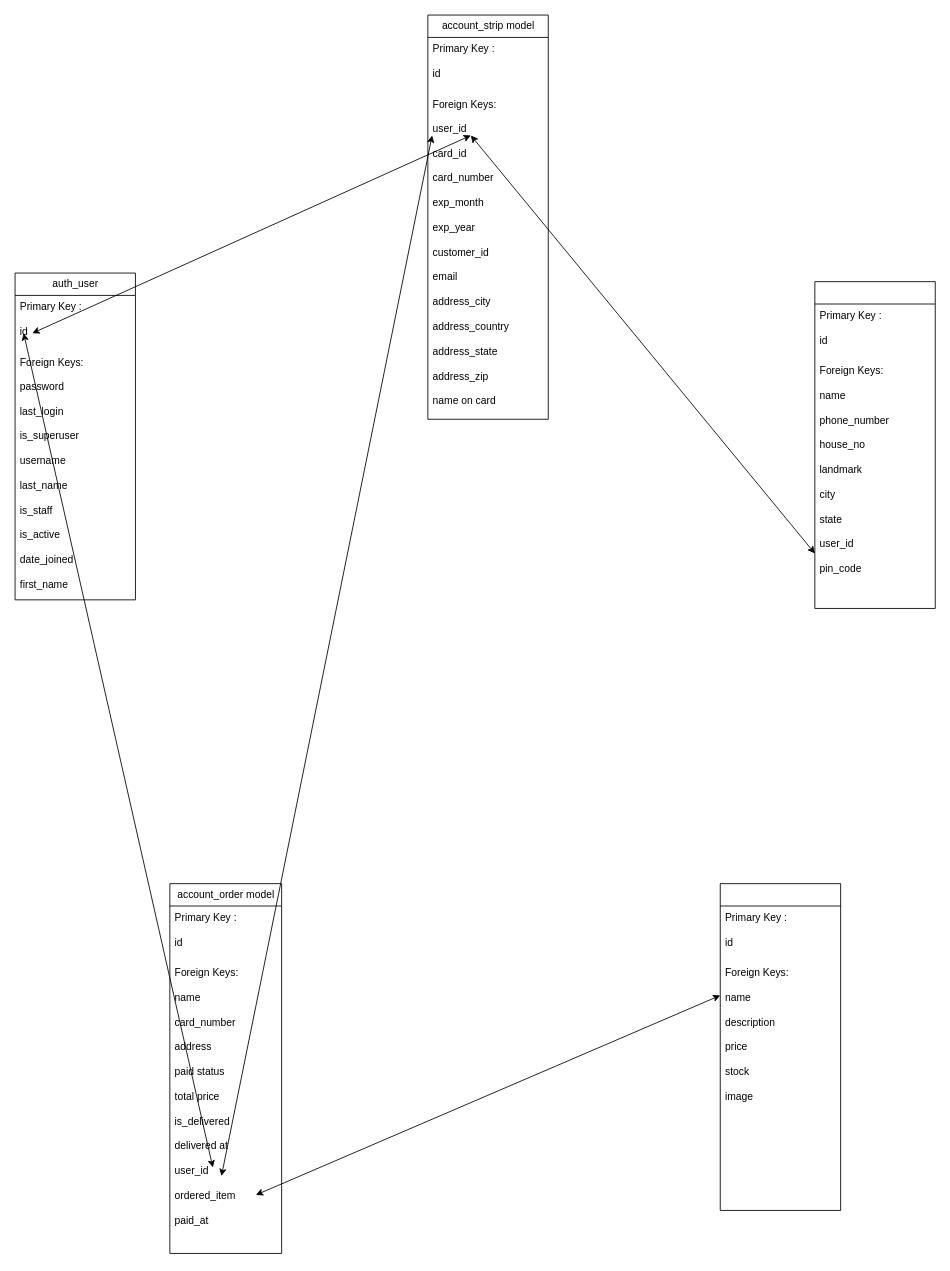
This 950x1271 diagram has some shape labels left out. The box of each missing label's shape, as (x1, y1, x2, y2) in pixels:
account_billing address: (814, 281, 935, 608)
Product_product: (719, 883, 841, 1210)
